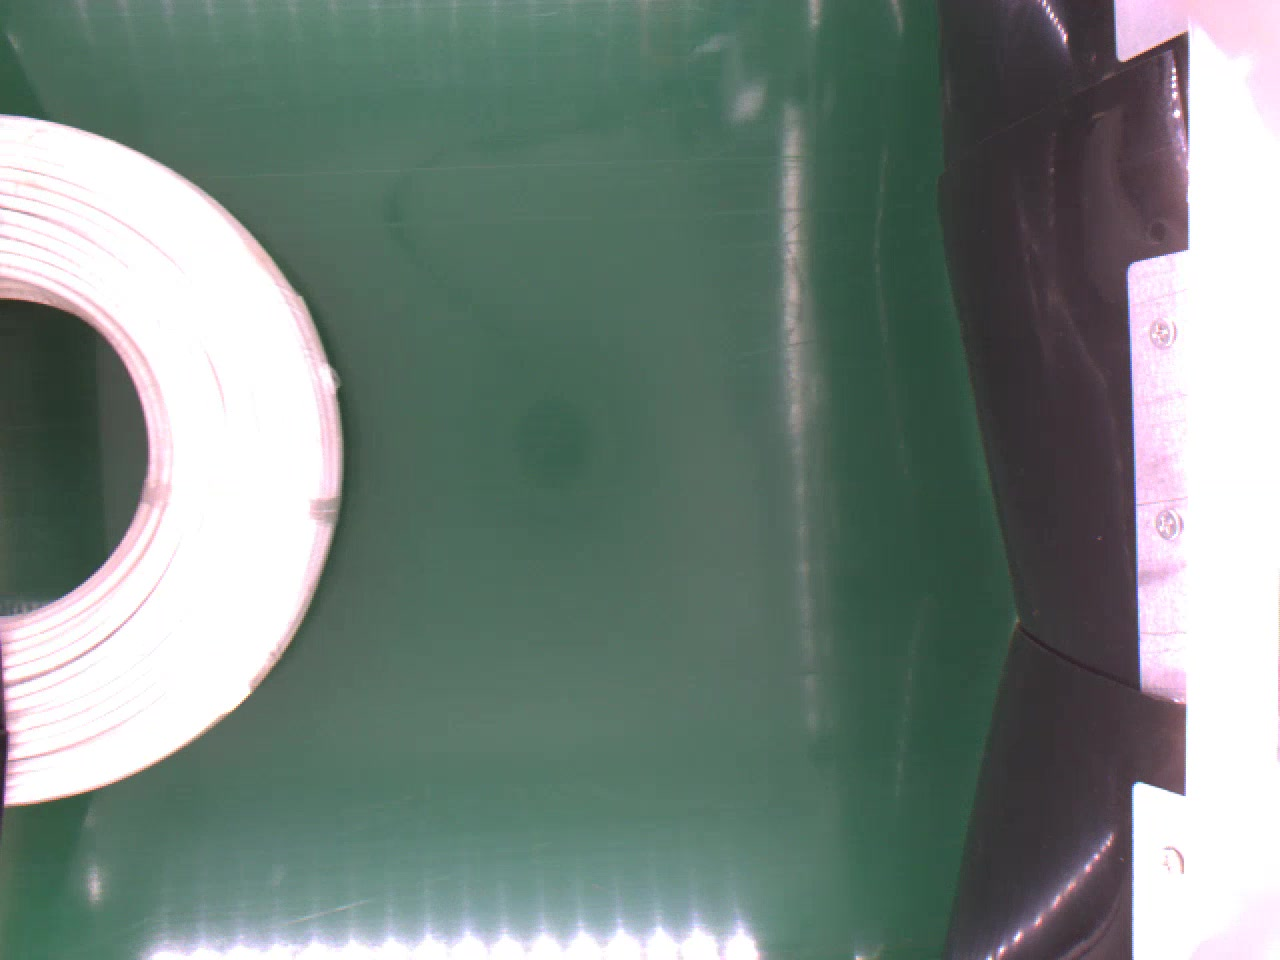white: (0, 110, 348, 805)
